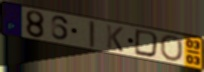6: (50, 15, 70, 43)
8: (25, 10, 45, 39)
D: (133, 28, 160, 59)
I: (88, 20, 96, 49)
K: (105, 23, 125, 53)
O: (159, 35, 185, 63)
